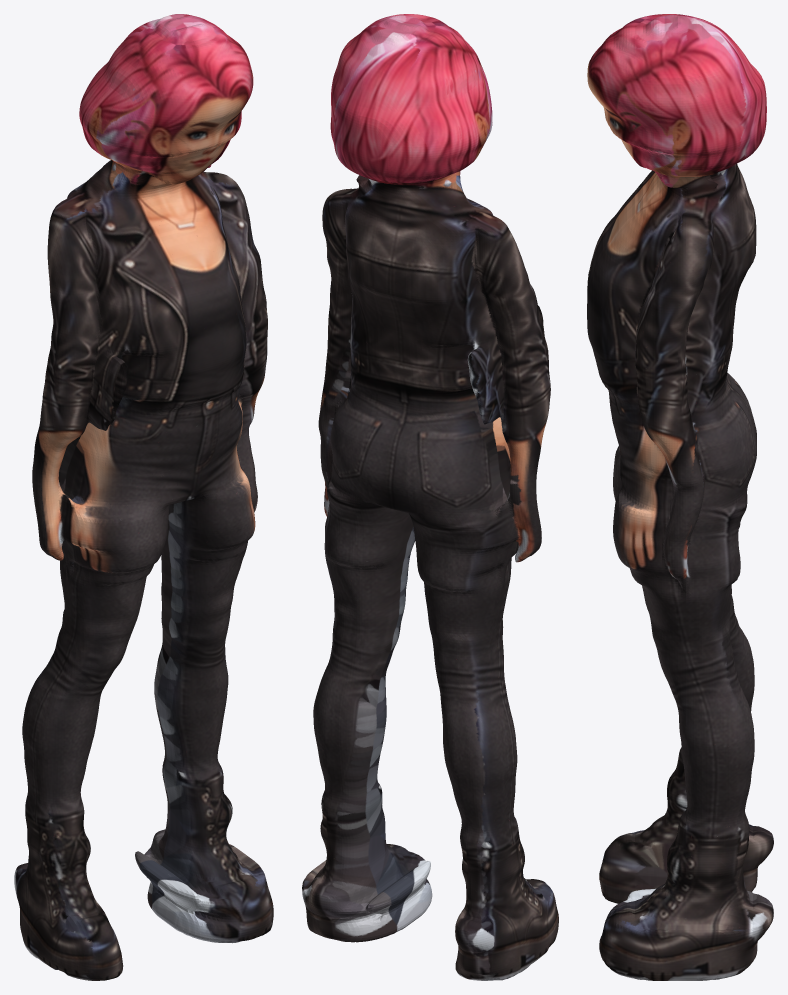
File: character-unrigged-v1.glb
The picture shows the model from 3 angles, left to right: view 1: azimuth 30°, elevation 25°; view 2: azimuth 150°, elevation 25°; view 3: azimuth 270°, elevation 25°; orthographic projection. The views are drawn at different scales.
Parts seen in each view (by area): view 1: geometry_0; view 2: geometry_0; view 3: geometry_0.
Boxes of the visible parts, box(x1,y1,x2,y2) form: geometry_0: box(14, 14, 273, 980); geometry_0: box(302, 14, 558, 980); geometry_0: box(587, 14, 773, 980).
Bounding box in the file's own units: 0.4298 × 1.73 × 0.3138.
Materials: 1 (1 with a texture image).
